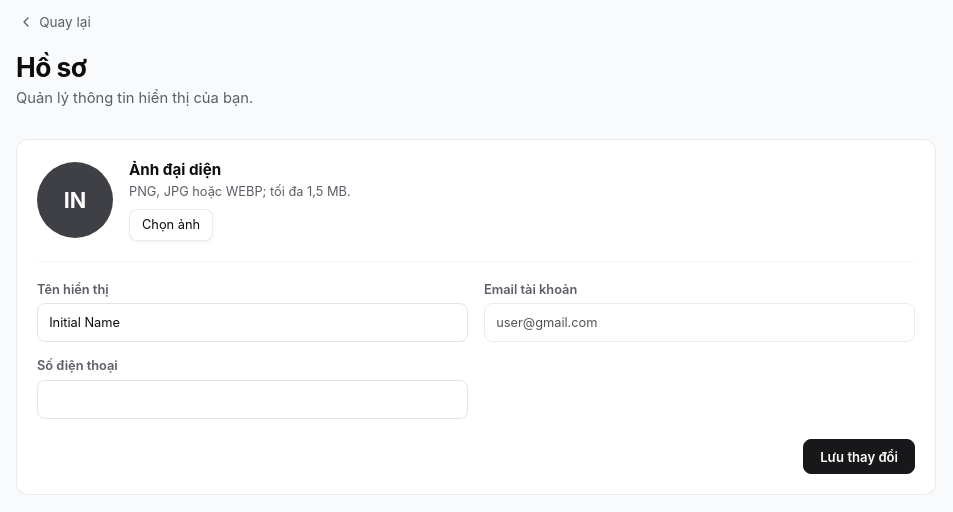
Test: Settings page › persists font-size and saves the real profile API response
Replace the text in the field with test id "profile-full-name" with "Updated Name": [252, 322] box left=37, top=303, right=468, bottom=342
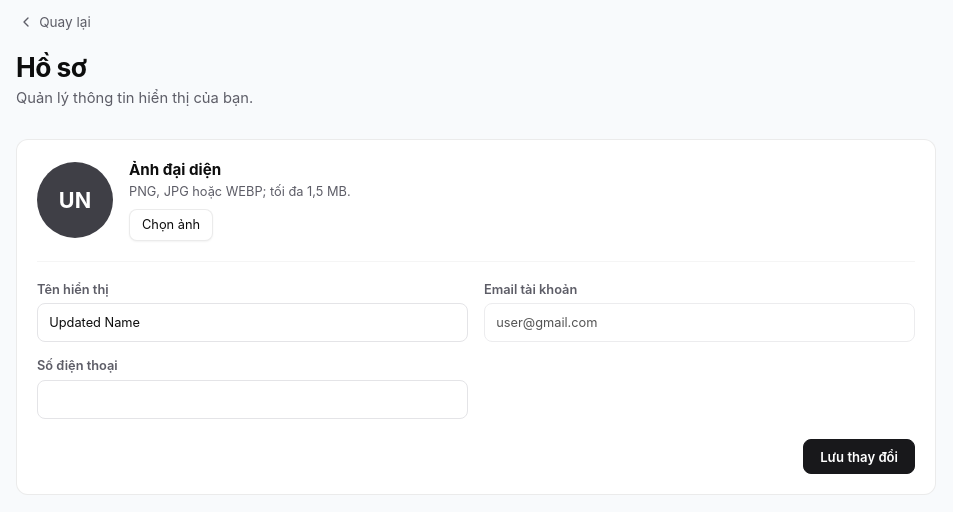
In the field with test id "profile-phone": [252, 399] box left=37, top=380, right=468, bottom=419, type "+84901234567"
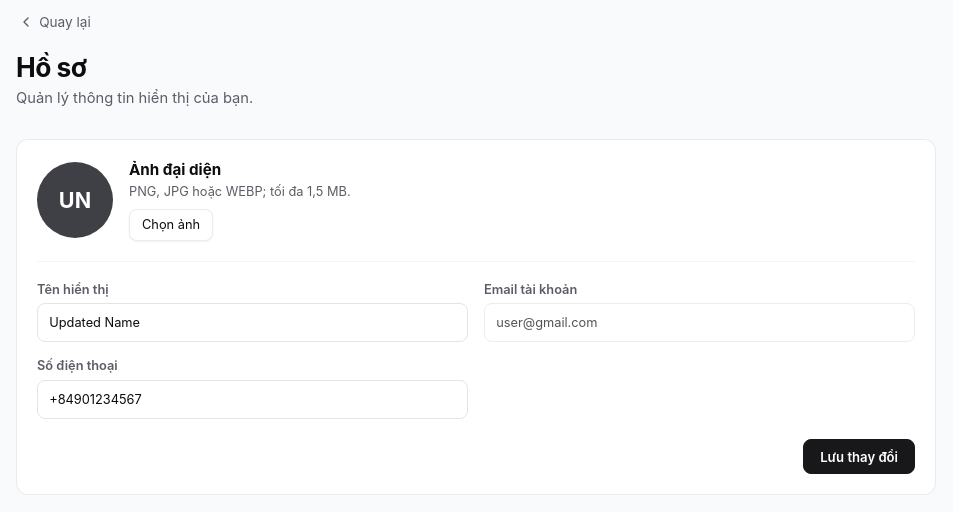
Click the button with test id "profile-save": [859, 456] box left=803, top=439, right=915, bottom=474
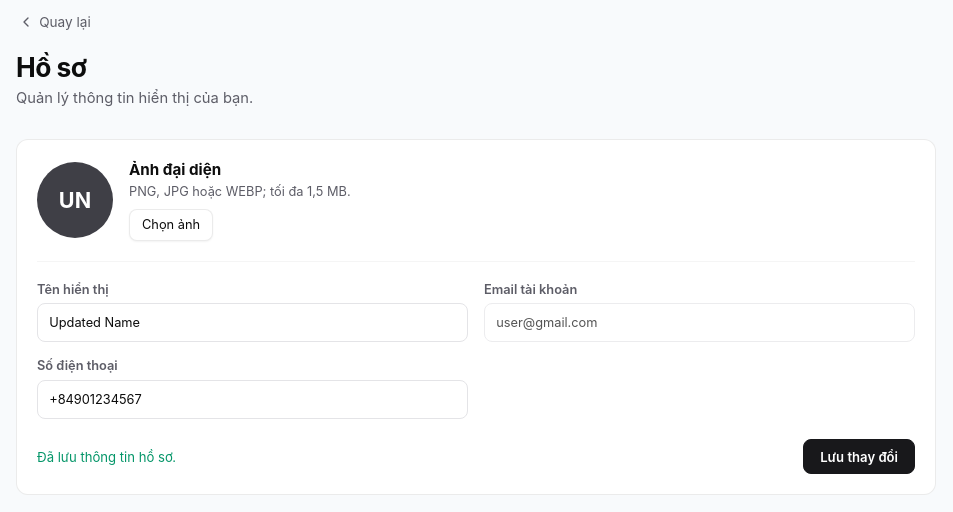
Expected: the field with test id "profile-email" holds "user@gmail.com", left=484, top=303, right=915, bottom=342
Expected: the message "Đã lưu thông tin hồ sơ." is shown, left=37, top=448, right=176, bottom=464
